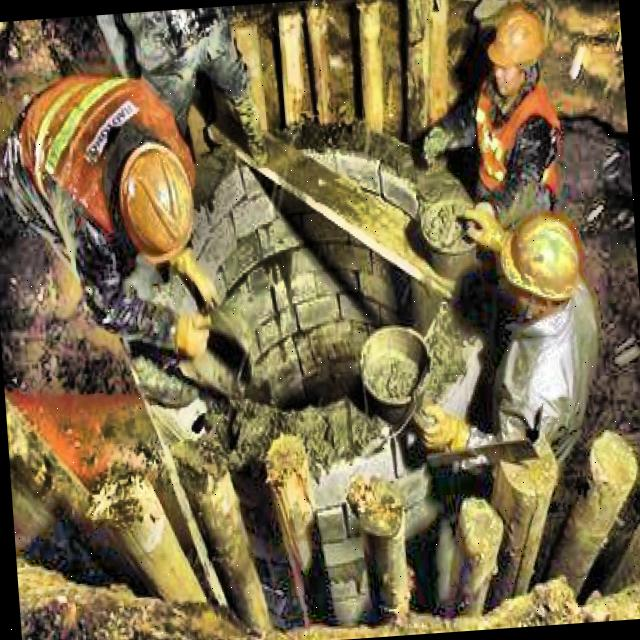helmet: (111, 130, 210, 270), (499, 211, 583, 322), (488, 8, 549, 86)
